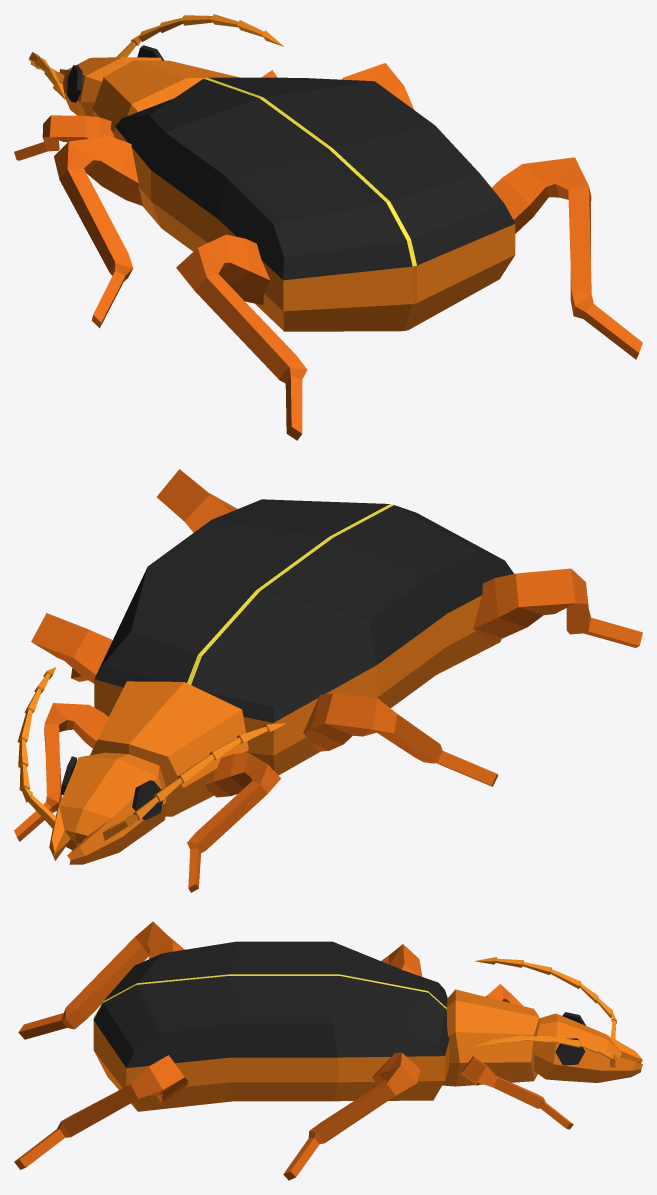
File: bombardir.fbx
The picture shows the model from 3 angles, top to bottom: view 1: azimuth 30°, elevation 25°; view 2: azimuth 150°, elevation 25°; view 3: azimuth 270°, elevation 25°; orthographic projection. The views are drawn at different scales.
Visible parts, largest first — view 1: Cube.001, Cube.005, Cube.008, Cube.006, Cube.002, Cube.007, Cube.003, Cube.004, Cube.009; view 2: Cube.001, Cube.002, Cube.003, Cube.005, Cube.006, Cube.007, Cube.010, Cube.009, Cube.008, Cube, Cube.004, Cylinder; view 3: Cube.001, Cube.002, Cube.003, Cube.005, Cube.008, Cube.009, Cube.010, Cube, Cube.004, Cube.006, Cylinder.001.
Boxes of the visible parts, <box> form: Cube.001: <box>115,77,515,331</box>; Cube.005: <box>176,234,307,440</box>; Cube.008: <box>491,157,642,359</box>; Cube.006: <box>54,136,142,328</box>; Cube.002: <box>92,60,239,137</box>; Cube.007: <box>14,115,113,160</box>; Cube.003: <box>59,57,161,116</box>; Cube.004: <box>116,14,283,57</box>; Cube.009: <box>342,63,414,109</box>; Cube.001: <box>94,499,513,775</box>; Cube.002: <box>90,681,248,816</box>; Cube.003: <box>49,752,166,864</box>; Cube.005: <box>473,568,642,647</box>; Cube.006: <box>303,693,498,786</box>; Cube.007: <box>187,752,280,892</box>; Cube.010: <box>14,703,108,841</box>; Cube.009: <box>31,613,112,683</box>; Cube.008: <box>157,469,237,532</box>; Cube: <box>103,723,286,840</box>; Cube.004: <box>17,667,56,828</box>; Cylinder: <box>132,780,163,819</box>; Cube.001: <box>93,941,449,1111</box>; Cube.002: <box>442,989,539,1086</box>; Cube.003: <box>534,1013,642,1082</box>; Cube.005: <box>18,921,184,1039</box>; Cube.008: <box>14,1055,187,1169</box>; Cube.009: <box>283,1052,420,1180</box>; Cube.010: <box>460,1056,573,1129</box>; Cube: <box>474,957,616,1039</box>; Cube.004: <box>474,1035,616,1067</box>; Cube.006: <box>381,944,422,976</box>; Cylinder.001: <box>555,1038,585,1065</box>.
Size of the model in its own units: 336 by 128 by 566.
